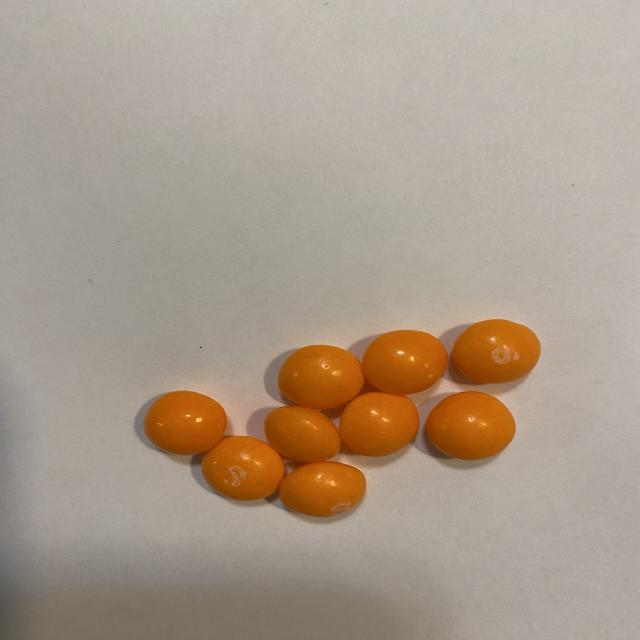smartie: (426, 392, 516, 461), (452, 319, 541, 383), (277, 345, 365, 409), (362, 330, 448, 395), (201, 437, 285, 501), (143, 391, 226, 455), (339, 392, 419, 457), (279, 462, 366, 518), (264, 406, 341, 463)
